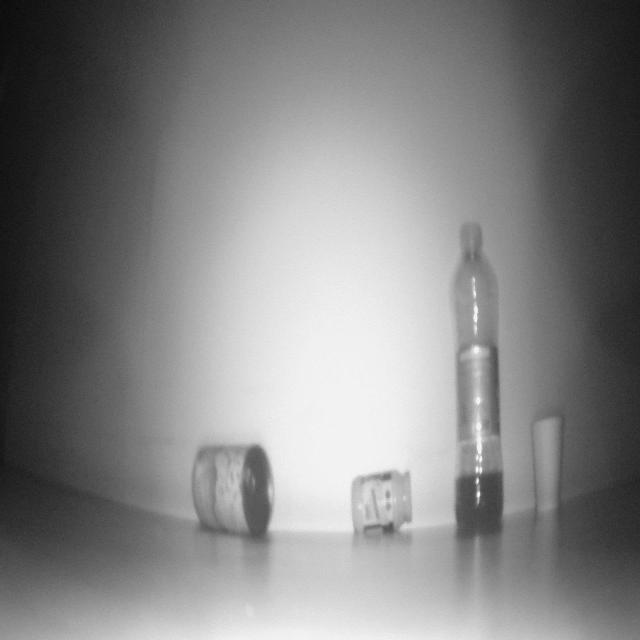targets: (446, 222, 508, 536), (191, 443, 277, 541), (351, 472, 416, 538), (530, 418, 565, 518)
